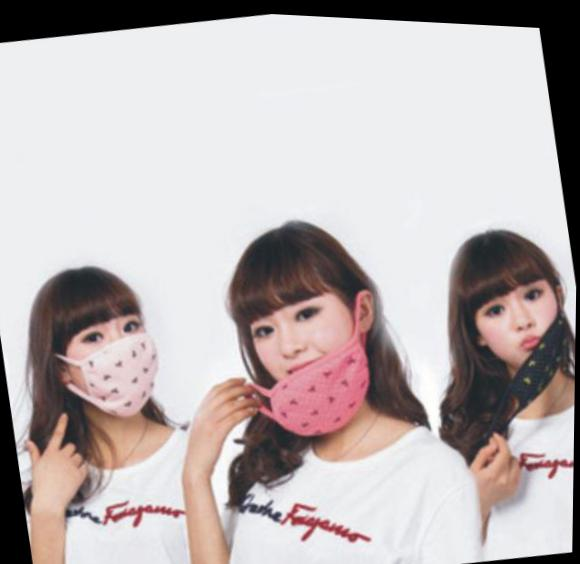OK: (56, 300, 172, 419)
WRONG: (247, 285, 363, 405), (474, 271, 574, 375)
